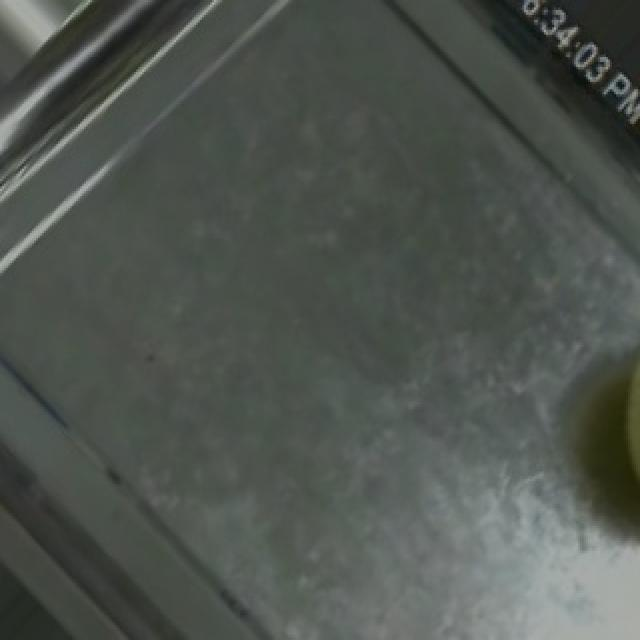Fruit: (592, 290, 640, 546)
